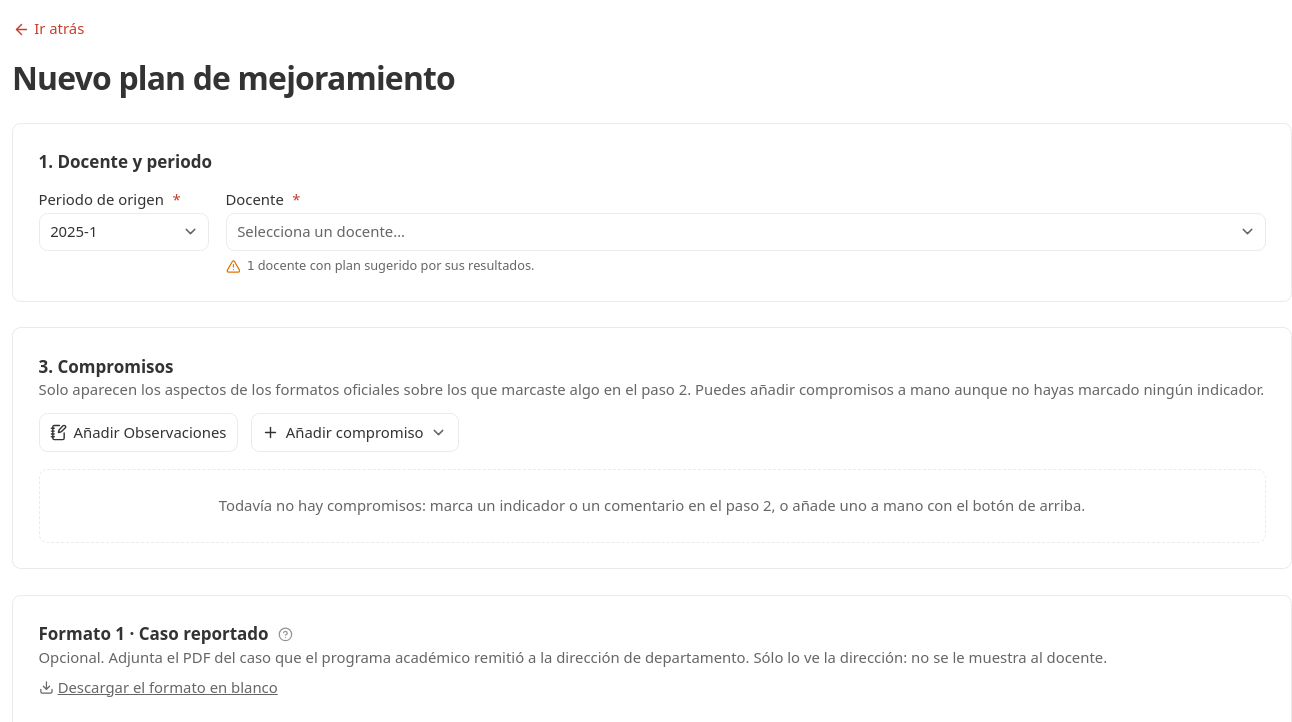
PlanFormPage · creación › offers the five aspects to add a commitment to, without listing them empty
Expected: the heading "Planeación del curso" is not shown
Expected: the heading "Desarrollo de la clase" is not shown
Click the button "Añadir compromiso" at (355, 433), box 251,413 -> 459,452
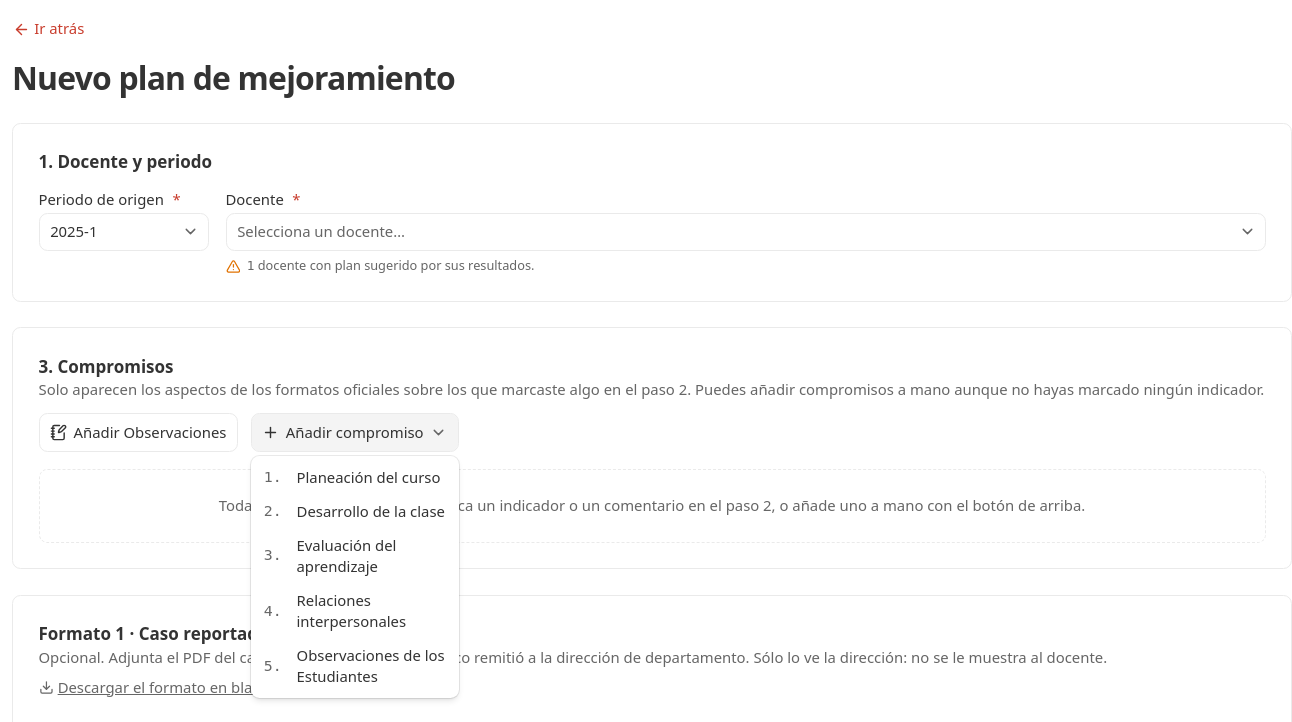
Expected: the menu item "1. Planeación del curso" is shown, 264,467 -> 440,487
Expected: the menu item "2. Desarrollo de la clase" is shown, 264,501 -> 445,521
Expected: the menu item "3. Evaluación del aprendizaje" is shown, 264,535 -> 396,576
